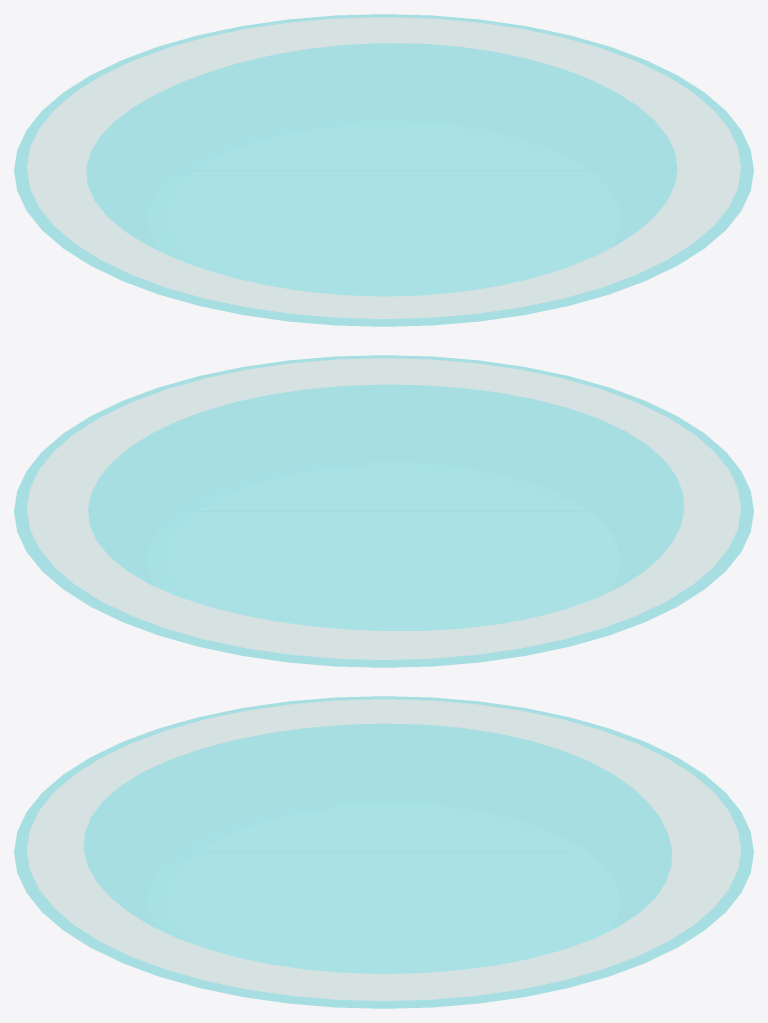
Rendered from Buracona_Agua.fbx.
The picture shows the model from 3 angles, top to bottom: view 1: azimuth 30°, elevation 25°; view 2: azimuth 150°, elevation 25°; view 3: azimuth 270°, elevation 25°; orthographic projection.
Parts seen in each view (by area): view 1: WTR_Agua, GEN_Agua_Brilho, WTR_Espuma; view 2: WTR_Agua, GEN_Agua_Brilho, WTR_Espuma; view 3: WTR_Agua, GEN_Agua_Brilho, WTR_Espuma.
Boxes of the visible parts, x1,y1,x2,y2 form: WTR_Agua: (14,14,753,326); GEN_Agua_Brilho: (148,120,619,319); WTR_Espuma: (27,17,740,318); WTR_Agua: (14,355,753,667); GEN_Agua_Brilho: (148,461,619,660); WTR_Espuma: (27,358,740,659); WTR_Agua: (14,696,753,1008); GEN_Agua_Brilho: (147,802,620,1001); WTR_Espuma: (27,699,740,1000).
Bounding box in the file's own units: 7.5 × 0.582 × 7.5.
